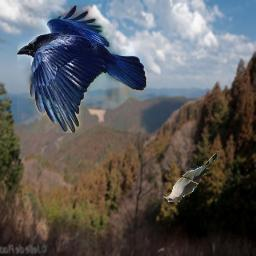Crow: (17, 5, 147, 133)
Cuckoo: (163, 149, 222, 202)
